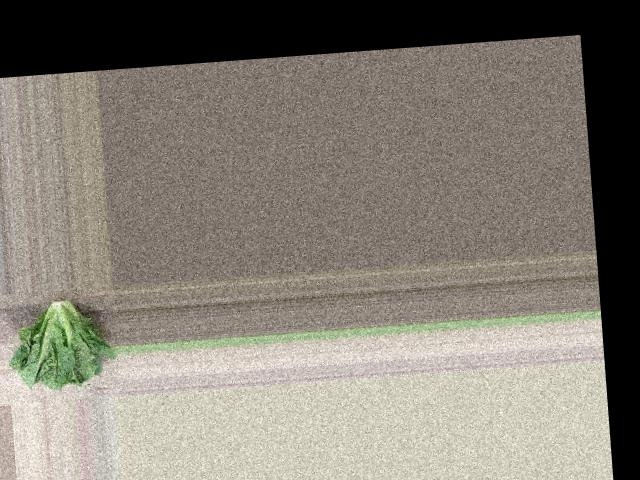lettuce: (7, 289, 117, 395)
